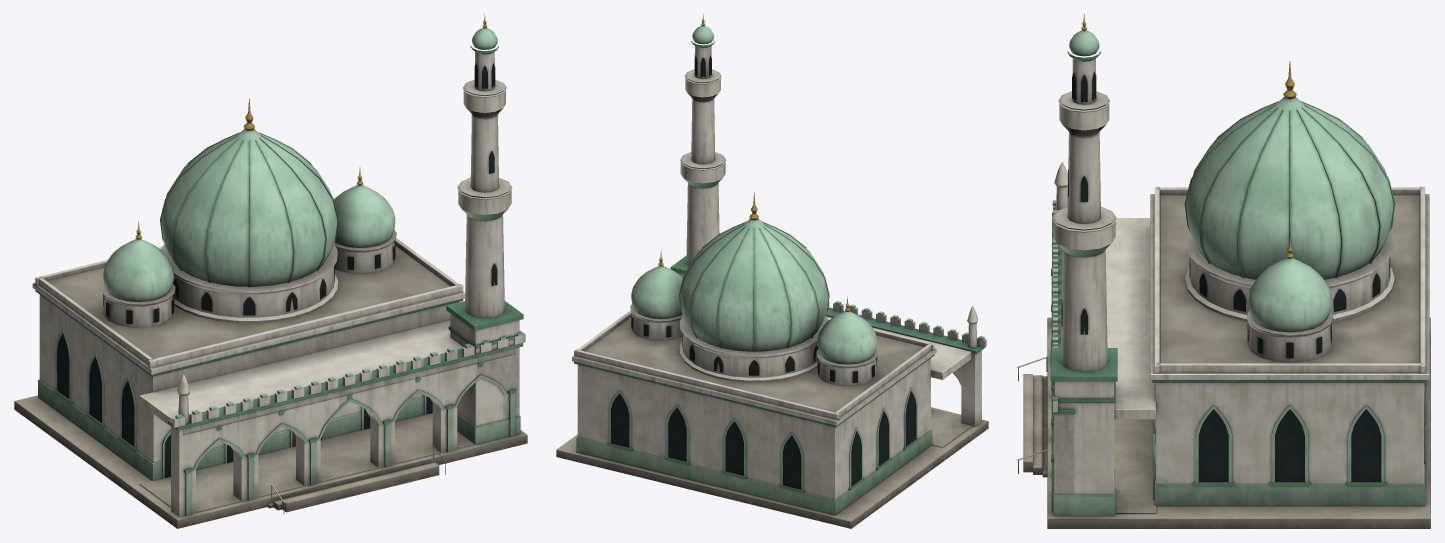
File: mosque.glb
3 views of the same model, side by side, from view 1: azimuth 30°, elevation 25°; view 2: azimuth 150°, elevation 25°; view 3: azimuth 270°, elevation 25° (orthographic). The views are drawn at different scales.
Visible parts, largest first — view 1: body; view 2: body; view 3: body.
Boxes of the visible parts, left/top/right/bottom form: body: left=14, top=14, right=527, bottom=528; body: left=556, top=14, right=988, bottom=528; body: left=1017, top=14, right=1430, bottom=528.
Size of the model in its own units: 20.62 by 23.85 by 17.91.
Materials: 1 (1 with a texture image).
